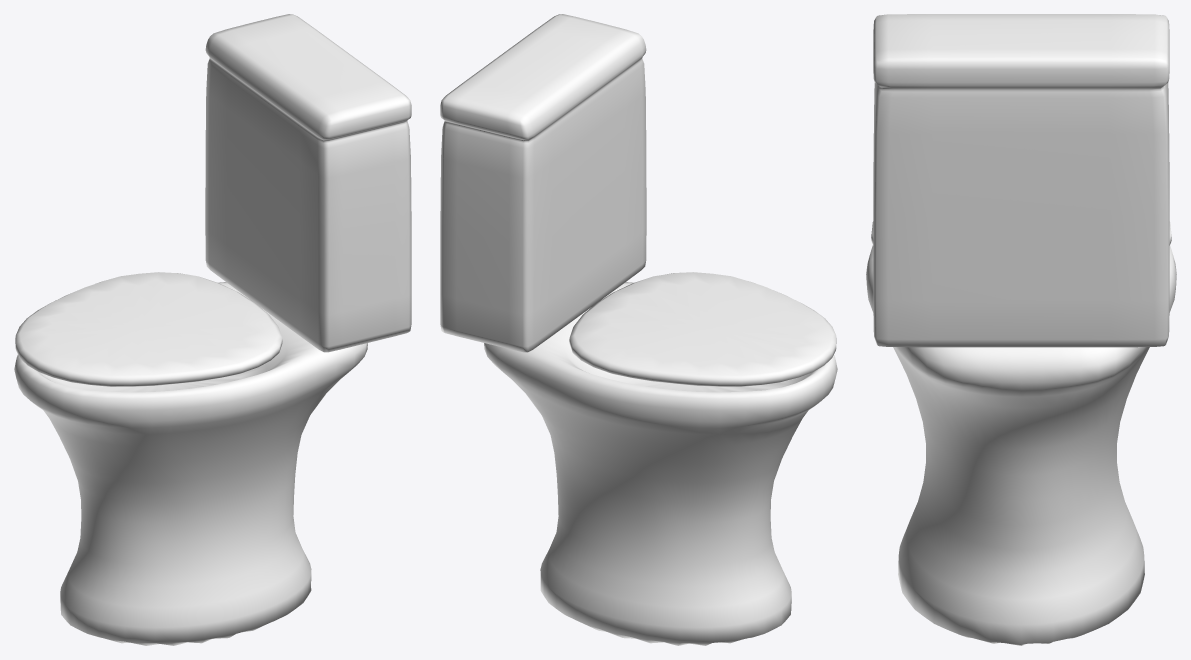
Rendered from toilet.fbx.
3 views of the same model, side by side, from view 1: azimuth 30°, elevation 25°; view 2: azimuth 150°, elevation 25°; view 3: azimuth 270°, elevation 25° (orthographic). The views are drawn at different scales.
Visible parts, largest first — view 1: Cube; view 2: Cube; view 3: Cube.
Boxes of the visible parts, <box> form: Cube: <box>14,14,411,645</box>; Cube: <box>440,14,837,645</box>; Cube: <box>866,14,1176,645</box>.
Bounding box in the file's own units: 230 × 351 × 155.
